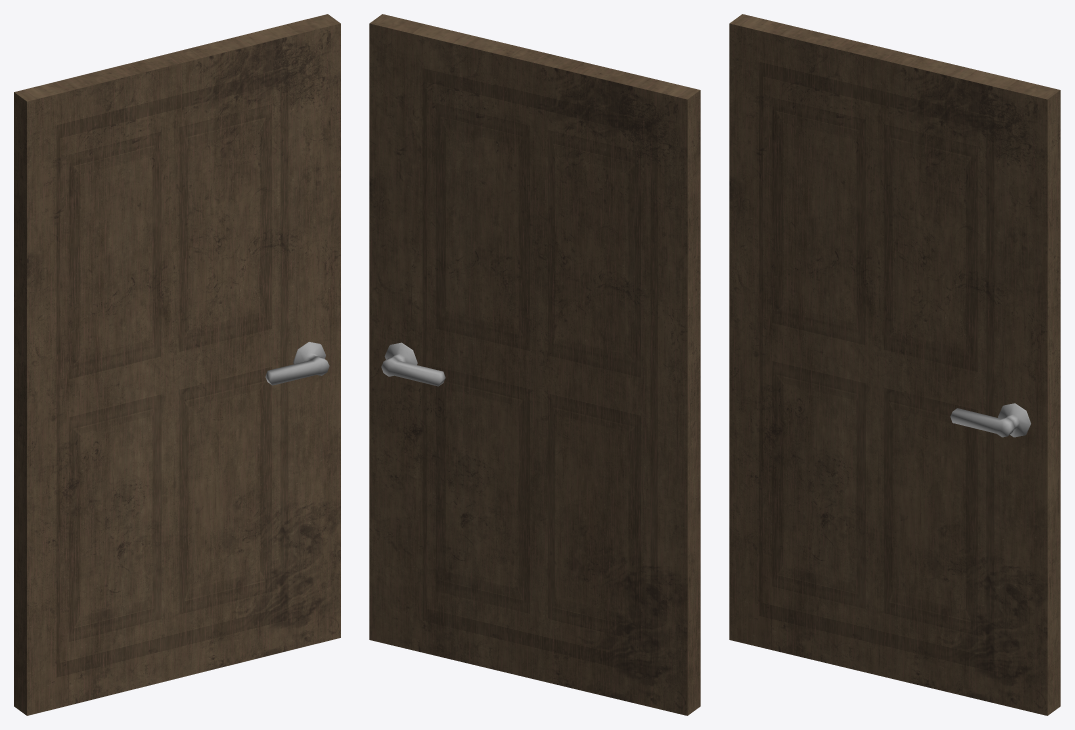
The model's file is ArcRoomDoor1.fbx.
3 views of the same model, side by side, from view 1: azimuth 30°, elevation 25°; view 2: azimuth 150°, elevation 25°; view 3: azimuth 330°, elevation 25° (orthographic).
Visible parts, largest first — view 1: ArcRoomDoor1_low; view 2: ArcRoomDoor1_low; view 3: ArcRoomDoor1_low.
Boxes of the visible parts, left/top/right/bottom form: ArcRoomDoor1_low: left=14, top=14, right=340, bottom=715; ArcRoomDoor1_low: left=369, top=14, right=700, bottom=715; ArcRoomDoor1_low: left=729, top=14, right=1060, bottom=715.
Size of the model in its own units: 179 by 333 by 38.13.
2 materials, 2 textured.
